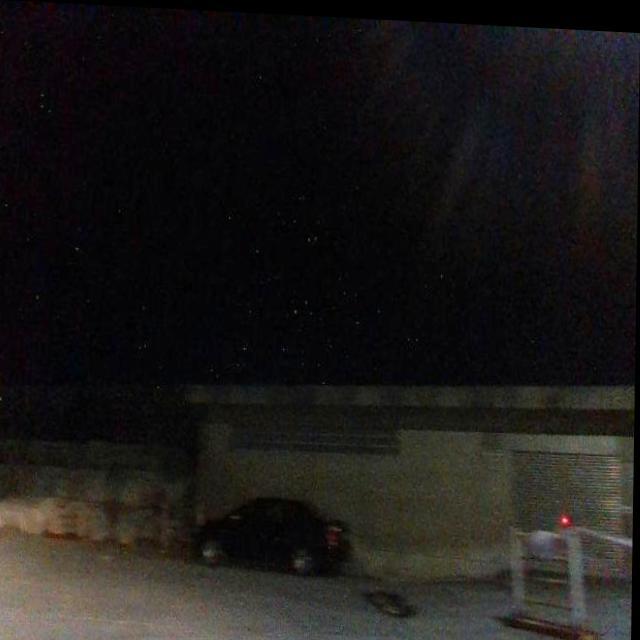pollute: (363, 579, 421, 619)
